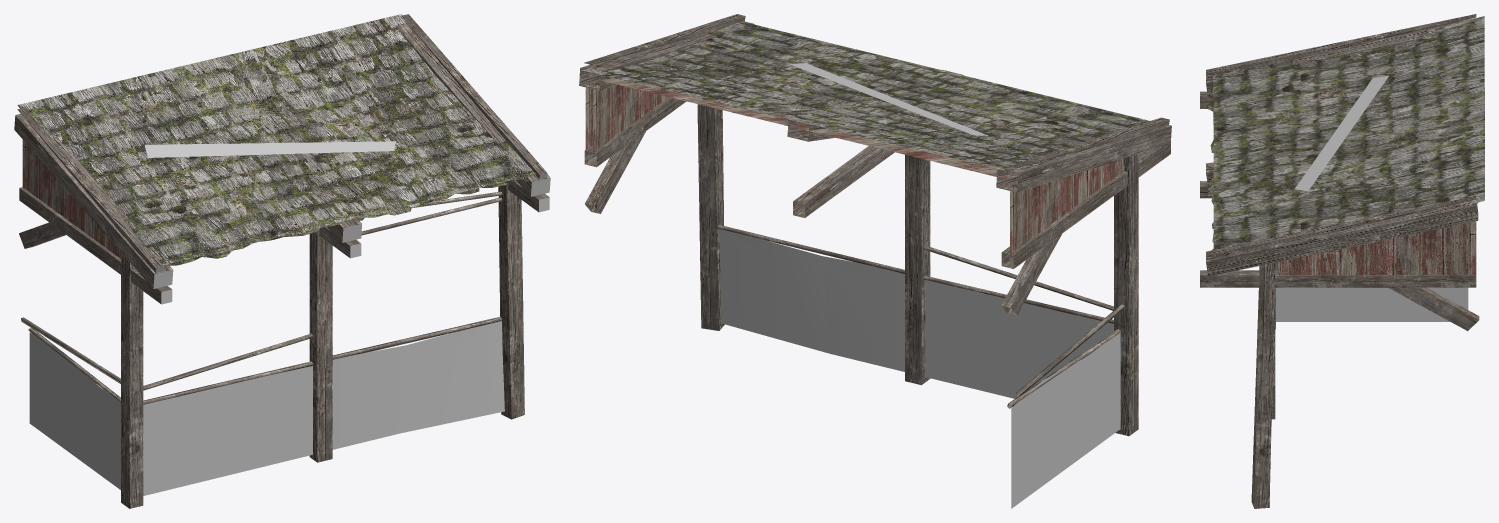
The model's file is Shed1_LOD1.fbx.
3 renders of one model, left to right at view 1: azimuth 30°, elevation 25°; view 2: azimuth 150°, elevation 25°; view 3: azimuth 270°, elevation 25°, orthographic. The views are drawn at different scales.
Parts seen in each view (by area): view 1: polySurface330; view 2: polySurface330; view 3: polySurface330.
Part boxes in pixels (bbox=[...]): polySurface330: bbox=[14, 14, 550, 508]; polySurface330: bbox=[579, 14, 1171, 508]; polySurface330: bbox=[1200, 14, 1484, 508].
Size of the model in its own units: 4.93 by 3.78 by 3.16.
